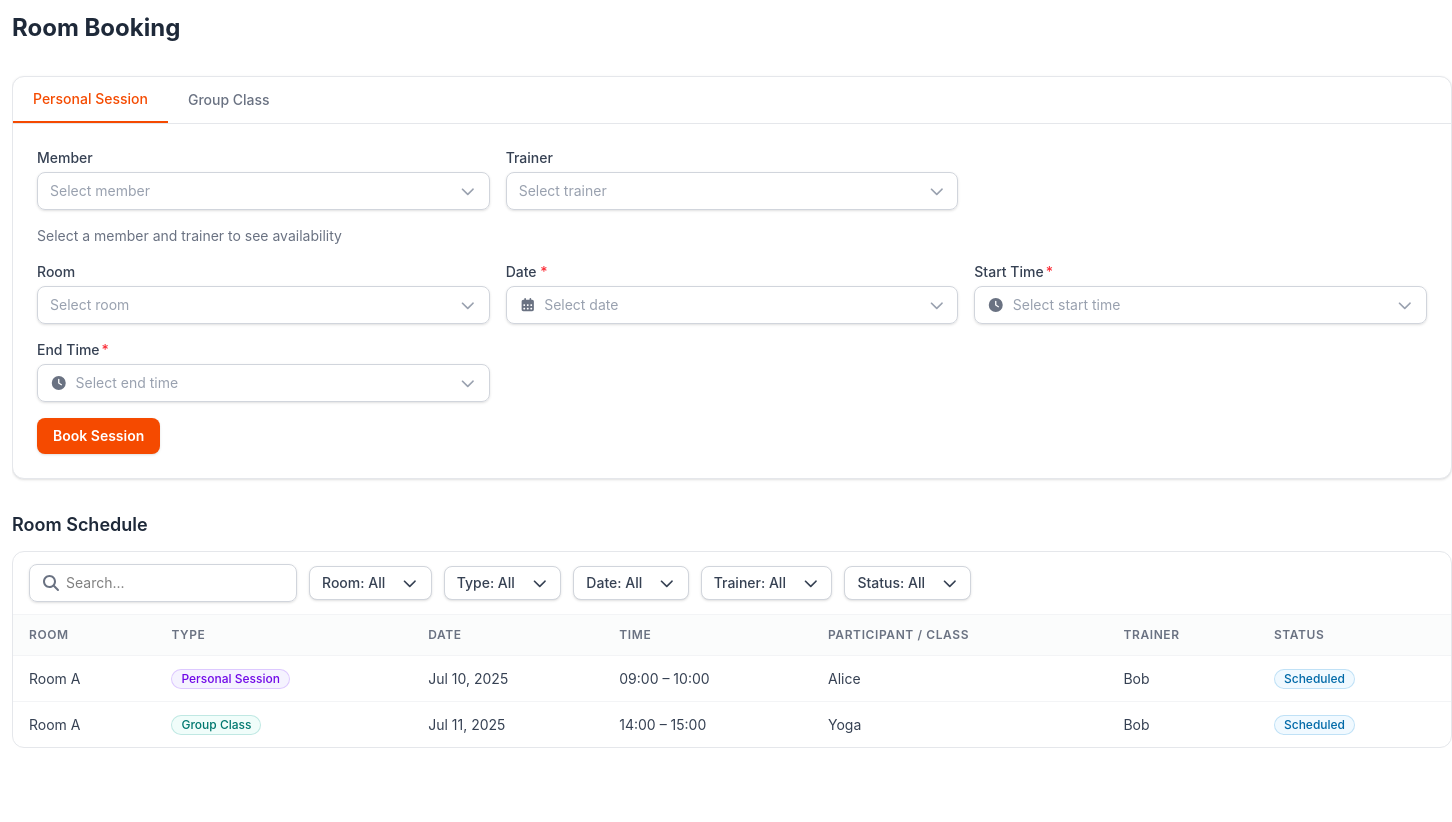
Test case: Admin RoomBooking › switches to Group Class tab
This screenshot has width=1452, height=822.
Click the button "Group Class". click: (229, 100)
box: [168, 77, 290, 123]
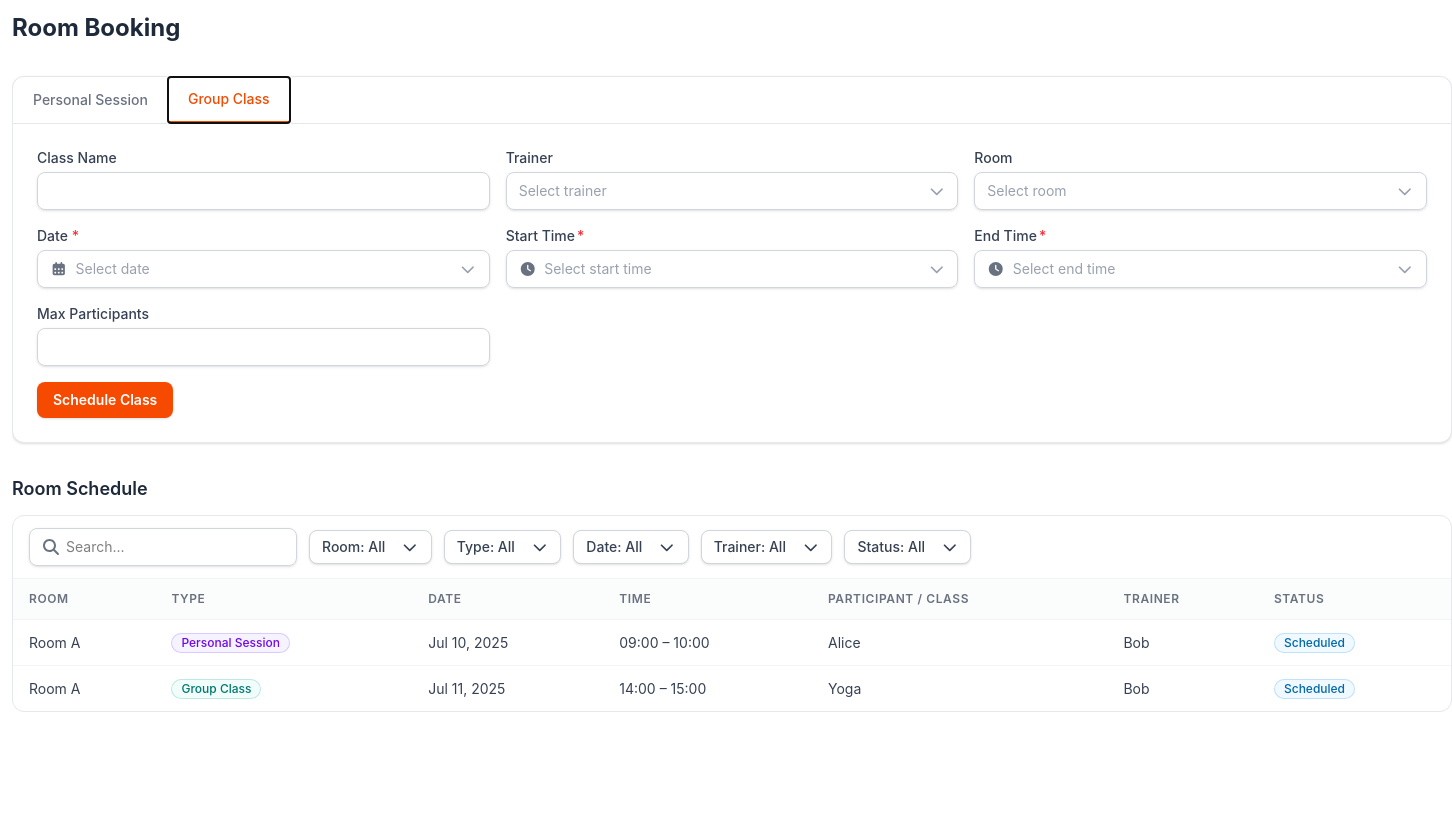
expect the button "Schedule Class" is shown: met, box [37, 382, 173, 418]
